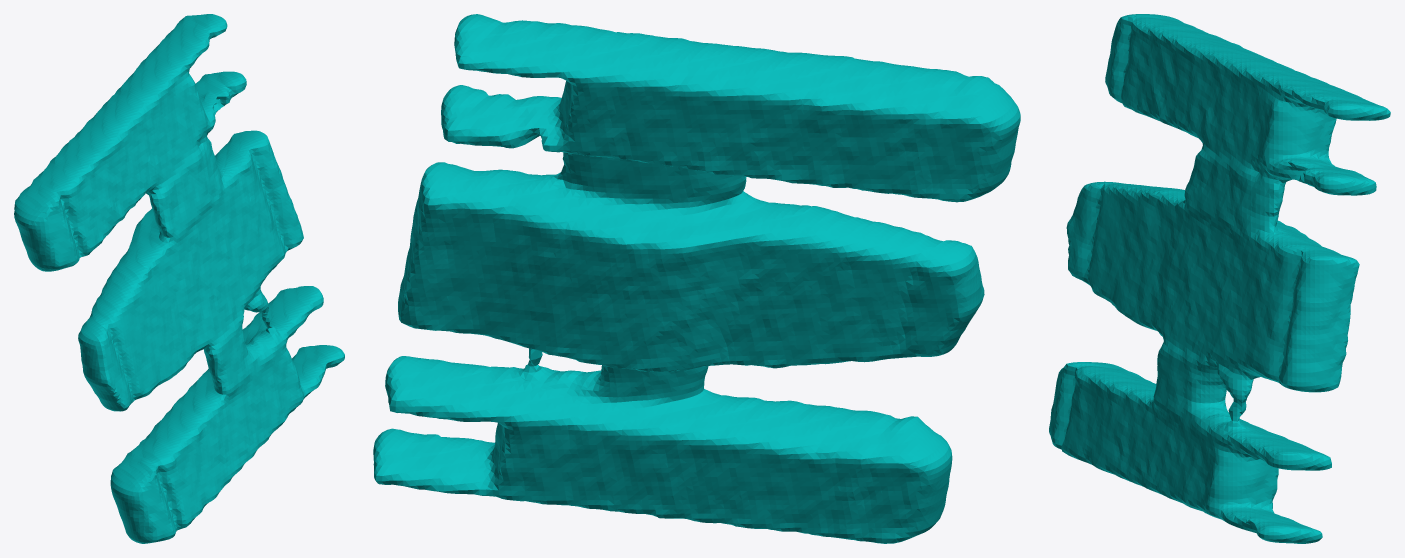
The picture shows the model from 3 angles, left to right: view 1: azimuth 30°, elevation 25°; view 2: azimuth 150°, elevation 25°; view 3: azimuth 270°, elevation 25°; orthographic projection. The views are drawn at different scales.
Bounding box in the file's own units: 1.1 × 1.1 × 0.7567.
